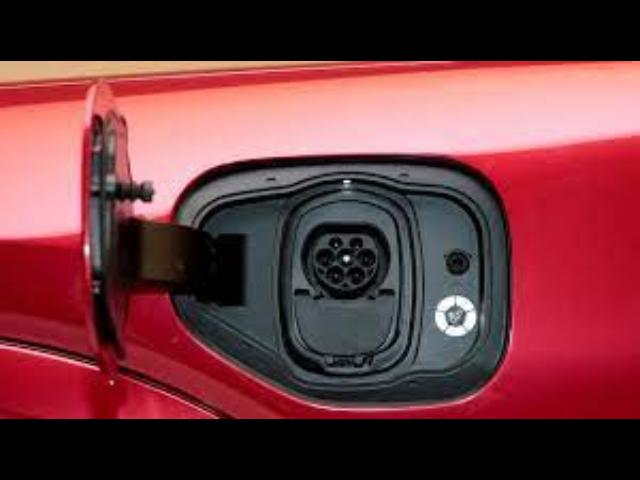inlet: (313, 233, 378, 292)
inlet-above-left: (329, 237, 343, 250)
inlet-above-right: (349, 238, 363, 249)
inlet-below-left: (326, 266, 345, 285)
inlet-below-right: (348, 267, 365, 284)
inlet-circle: (338, 249, 355, 268)
inlet-circle-left: (316, 249, 333, 268)
inlet-circle-right: (358, 248, 375, 268)
